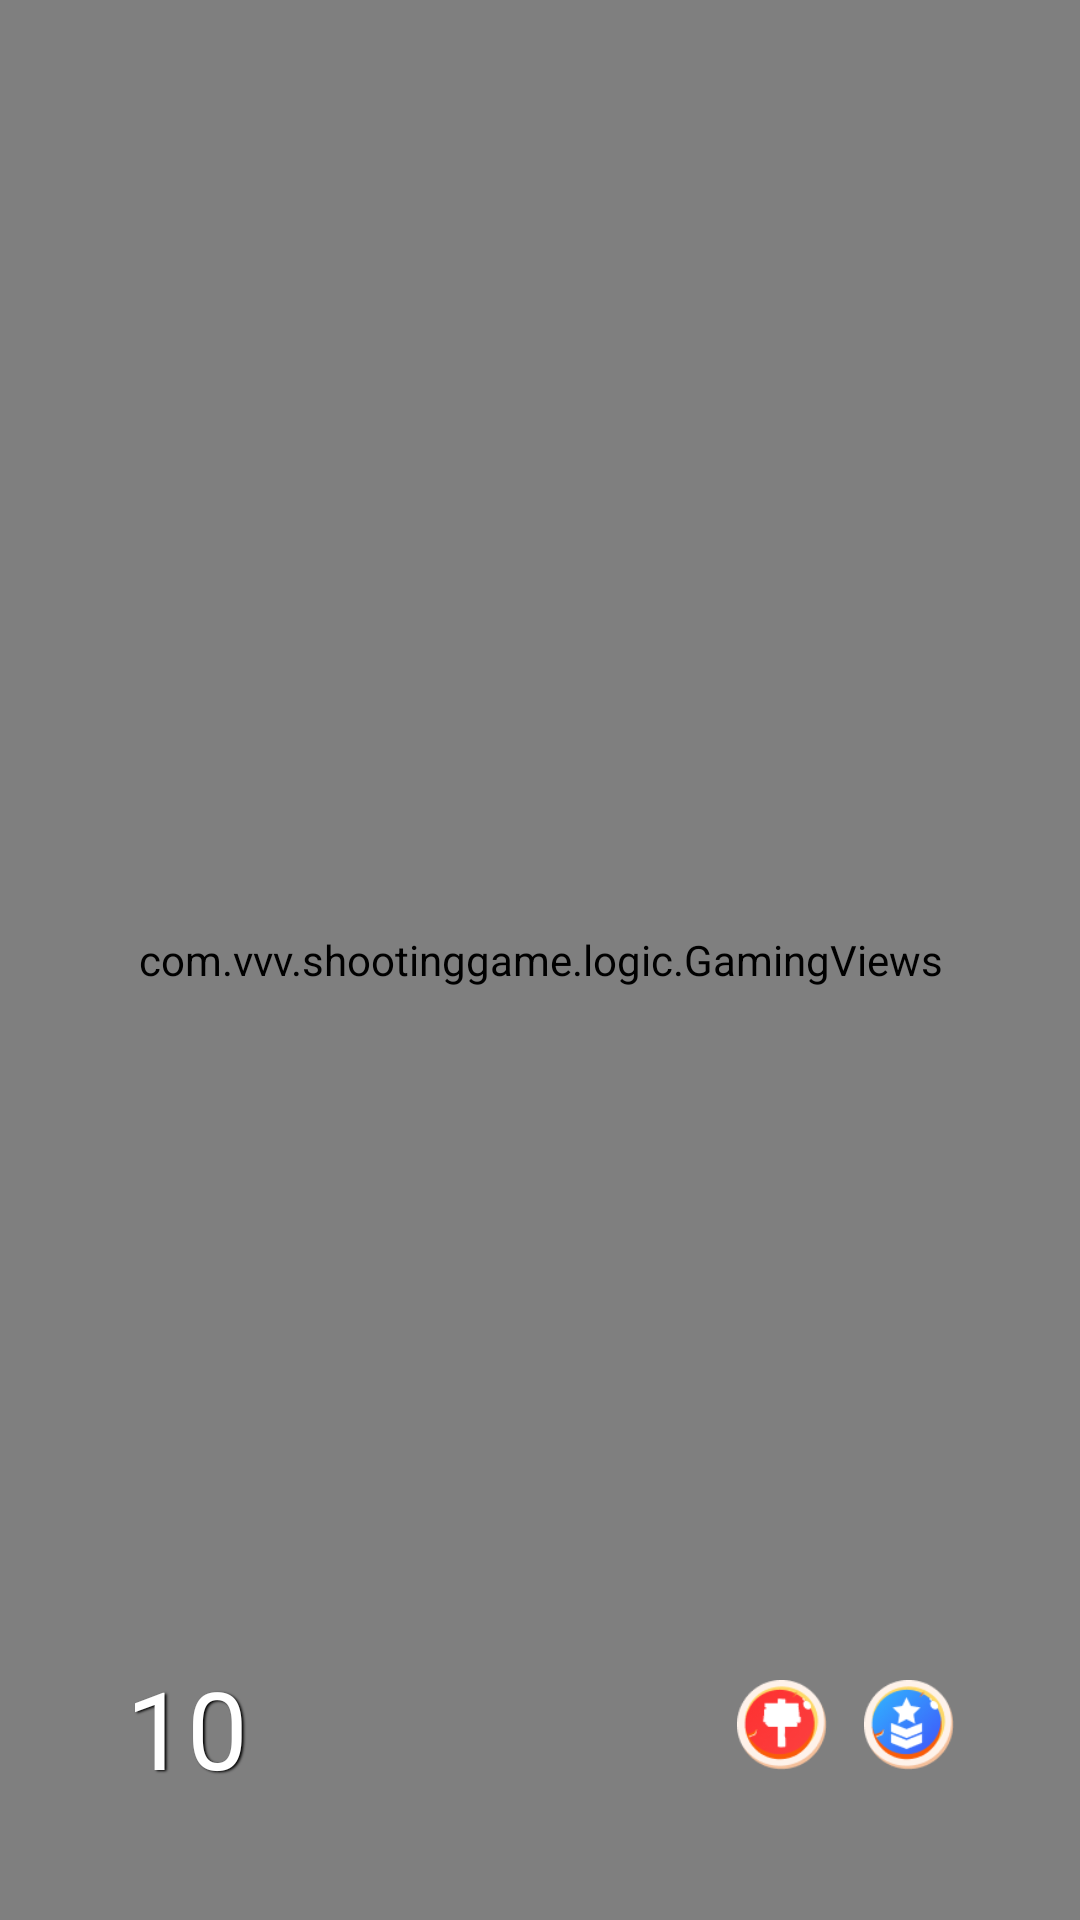

Named icons in this screenshot (1080 x 1920) and their bounding boxes, (x1, y1, x2, y2):
rank: (864, 1680, 953, 1769)
